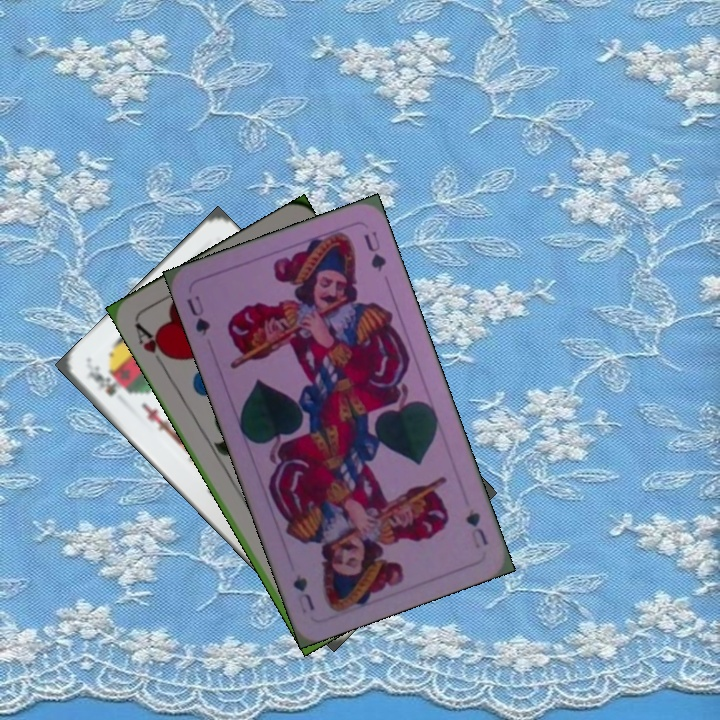GU: (182, 291, 213, 339), (461, 505, 491, 552)
HA: (131, 318, 174, 372)
SK: (83, 361, 119, 399)
